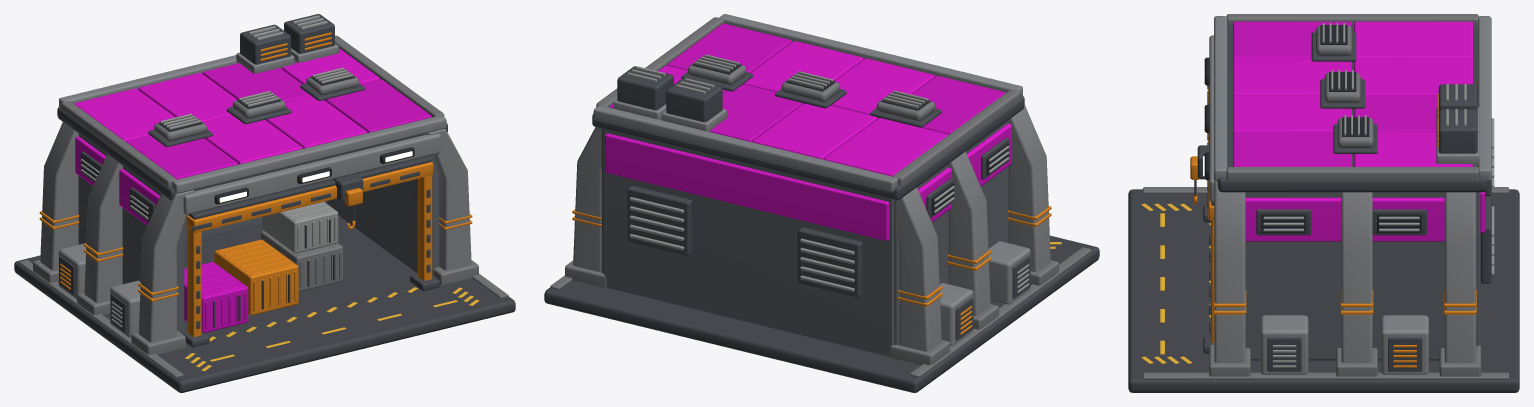
The model's file is supply-center.glb.
The picture shows the model from 3 angles, left to right: view 1: azimuth 30°, elevation 25°; view 2: azimuth 150°, elevation 25°; view 3: azimuth 270°, elevation 25°; orthographic projection. The views are drawn at different scales.
Parts seen in each view (by area): view 1: SupplyCenter; view 2: SupplyCenter; view 3: SupplyCenter.
Boxes of the visible parts, box(x1,y1,x2,y2) form: SupplyCenter: box(14, 14, 515, 392); SupplyCenter: box(544, 14, 1099, 392); SupplyCenter: box(1128, 14, 1519, 392).
Bounding box in the file's own units: 4.89 × 2.85 × 4.2.
